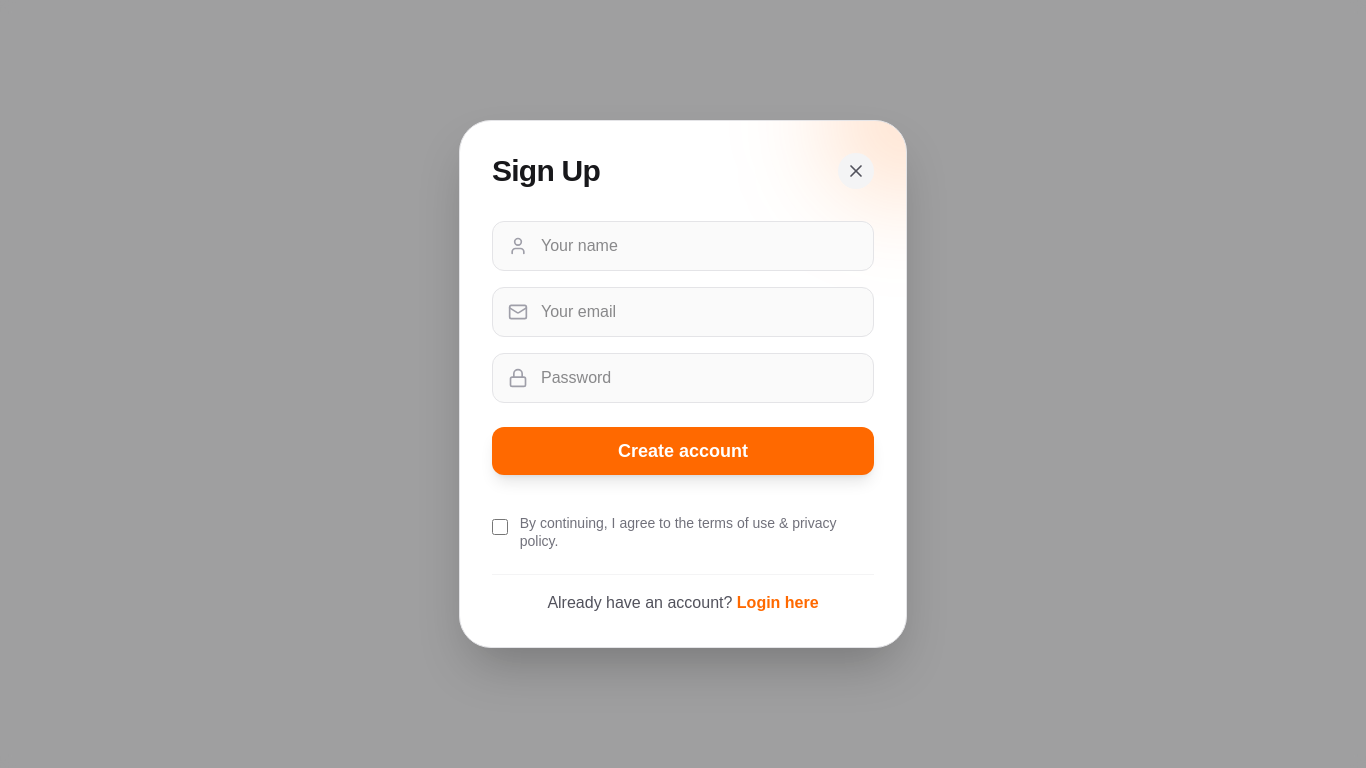
Scenario: LoginPopup › switches to the login form
The width and height of the screenshot is (1366, 768).
Click the button "Login here". click: [778, 603]
box: [737,591,819,615]
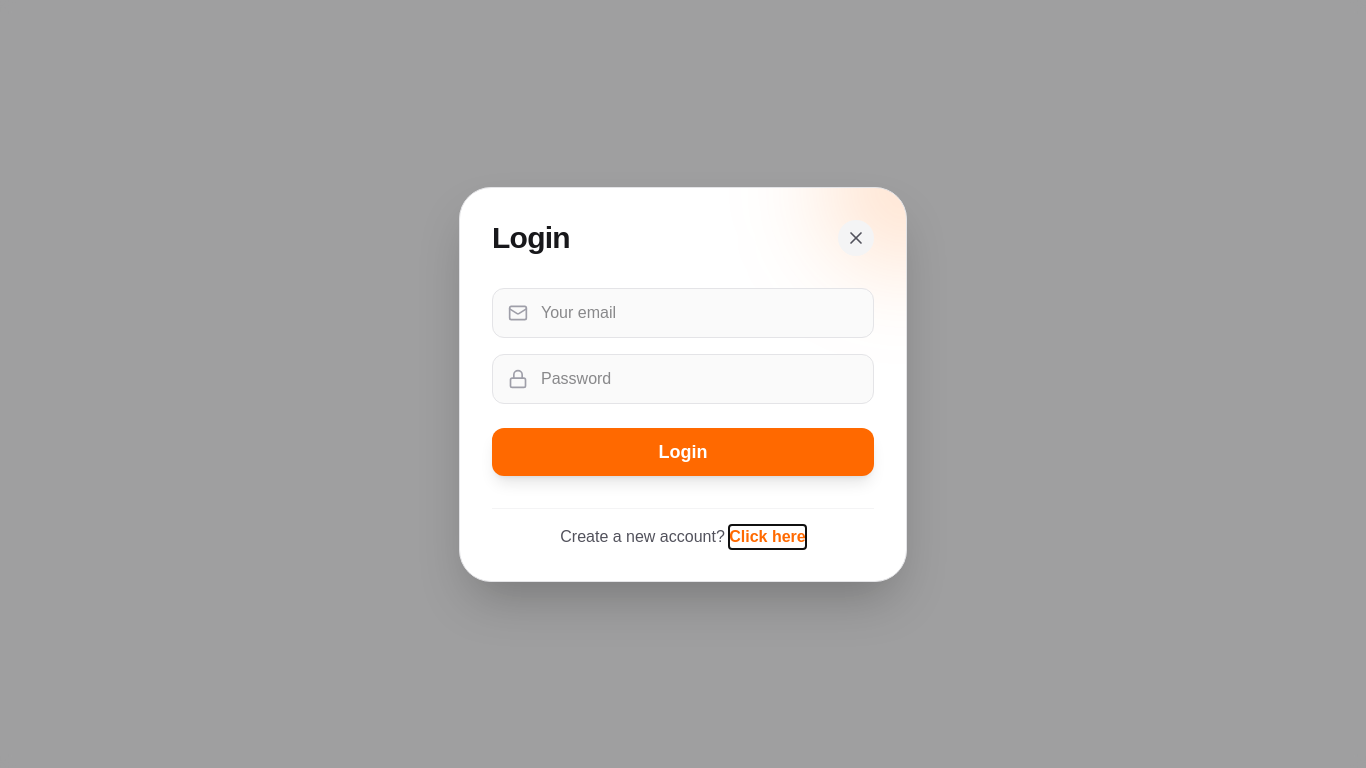
Result: the field with placeholder "Your name" is gone
